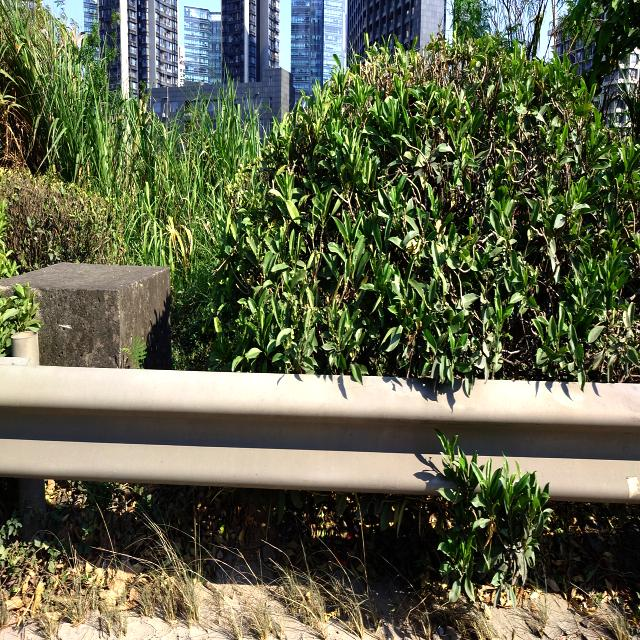Guard rail: (0, 364, 640, 502)
Tree: (210, 36, 640, 389), (0, 284, 40, 356)
